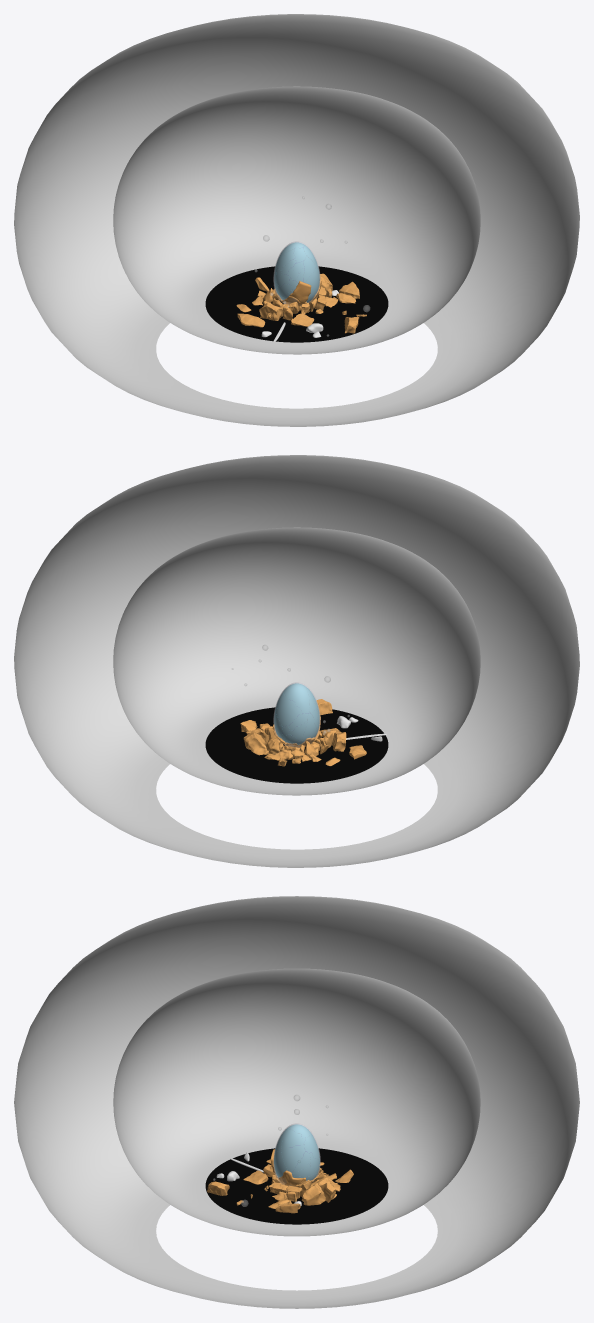
Rendered from PXLs_egg250.glb.
The picture shows the model from 3 angles, top to bottom: view 1: azimuth 30°, elevation 25°; view 2: azimuth 150°, elevation 25°; view 3: azimuth 270°, elevation 25°; orthographic projection.
Visible parts, largest first — view 1: outerCylinder, innerCylinder, floorBase, rockDebris, smoke4, smoke3, crackedEgg; view 2: outerCylinder, innerCylinder, floorBase, rockDebris, smoke4, smoke3, crackedEgg; view 3: outerCylinder, innerCylinder, floorBase, rockDebris, smoke4, smoke3, crackedEgg.
Boxes of the visible parts, x1=… form: outerCylinder: x1=14, y1=14, x2=579, y2=426; innerCylinder: x1=113, y1=86, x2=480, y2=354; floorBase: x1=205, y1=266, x2=388, y2=342; rockDebris: x1=237, y1=273, x2=359, y2=333; smoke4: x1=273, y1=241, x2=320, y2=305; smoke3: x1=274, y1=241, x2=319, y2=302; crackedEgg: x1=274, y1=242, x2=319, y2=302; outerCylinder: x1=14, y1=455, x2=579, y2=867; innerCylinder: x1=113, y1=527, x2=480, y2=795; floorBase: x1=205, y1=707, x2=388, y2=783; rockDebris: x1=240, y1=699, x2=366, y2=766; smoke4: x1=273, y1=682, x2=320, y2=747; smoke3: x1=274, y1=682, x2=319, y2=746; crackedEgg: x1=274, y1=683, x2=319, y2=744; outerCylinder: x1=14, y1=896, x2=579, y2=1308; innerCylinder: x1=113, y1=968, x2=480, y2=1236; floorBase: x1=205, y1=1148, x2=388, y2=1224; rockDebris: x1=207, y1=1156, x2=353, y2=1213; smoke4: x1=273, y1=1123, x2=320, y2=1185; smoke3: x1=274, y1=1123, x2=320, y2=1179; crackedEgg: x1=274, y1=1124, x2=319, y2=1180.
Bounding box in the file's own units: 22.69 × 11.36 × 22.69.
Materials: 8 (2 with a texture image).
